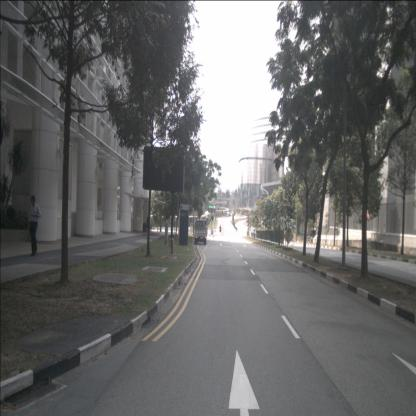human-pedestrian-adult: (28, 195, 42, 256), (146, 217, 149, 237)
vehicle-truck: (194, 219, 207, 245)
